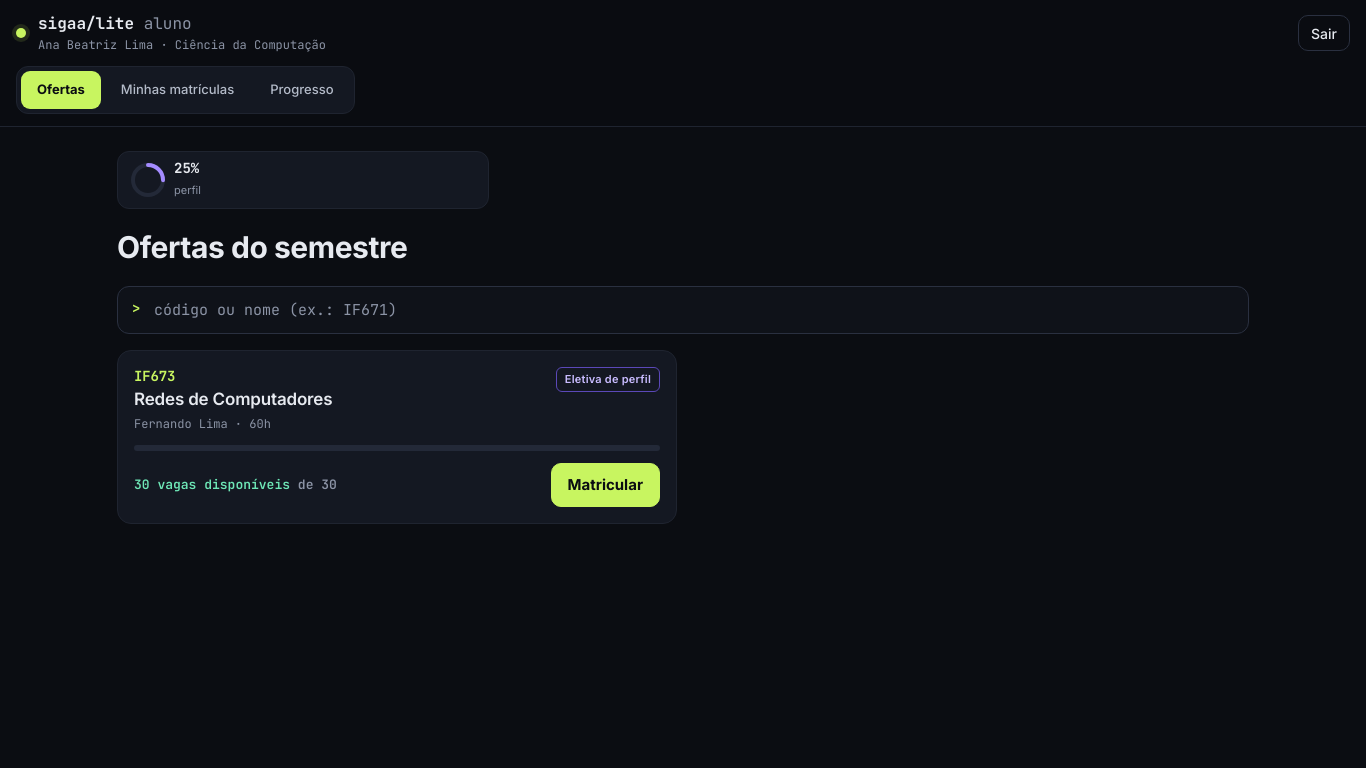
Test case: confirmação de matrícula › como conta no progresso › eletiva de perfil com espaço conta como perfil
This screenshot has width=1366, height=768.
What coordinates should you click on to do the following:
click the button with aria-label "Matricular em IF673"
I would click on:
 (605, 485)
Its box is [550,463,660,507].
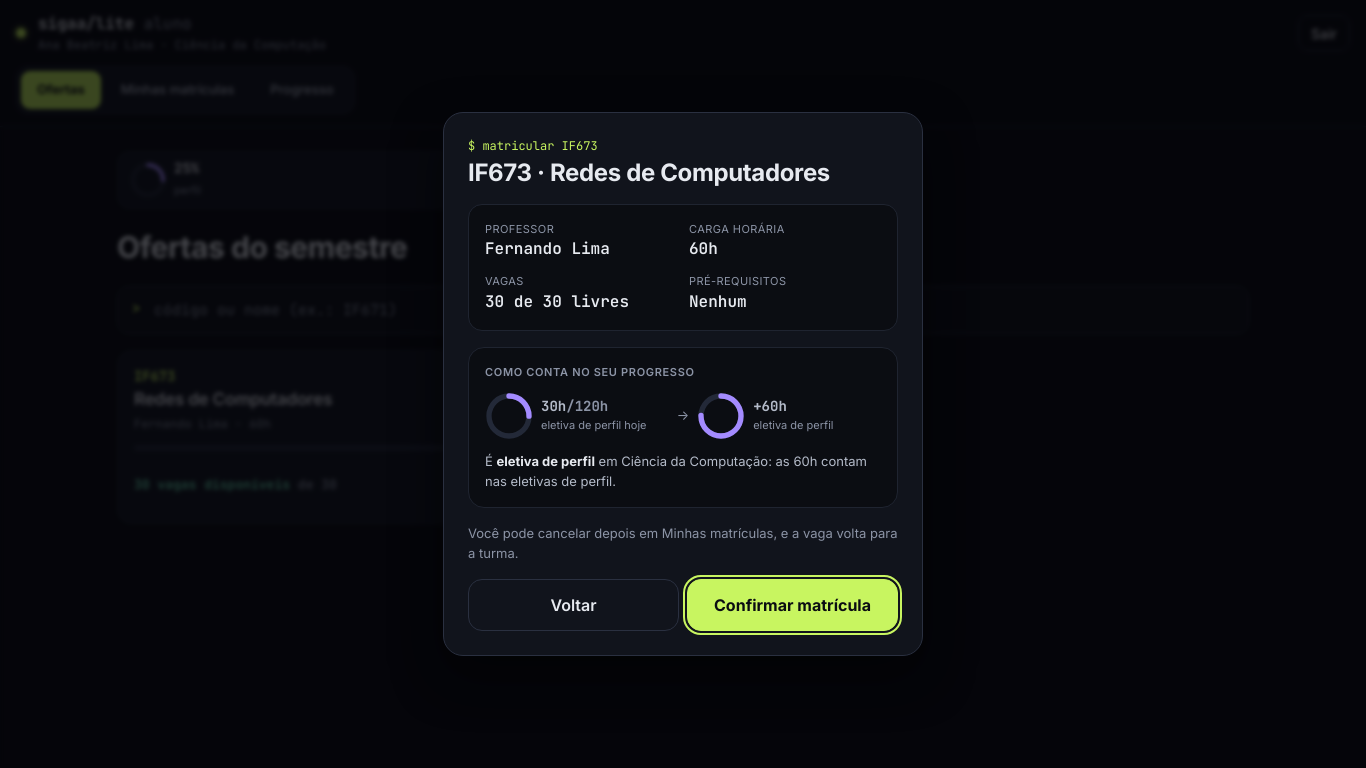
Result: the element named "Como conta no seu progresso" shows "as 60h contam nas eletivas de perfil" at [468,347,898,508]
